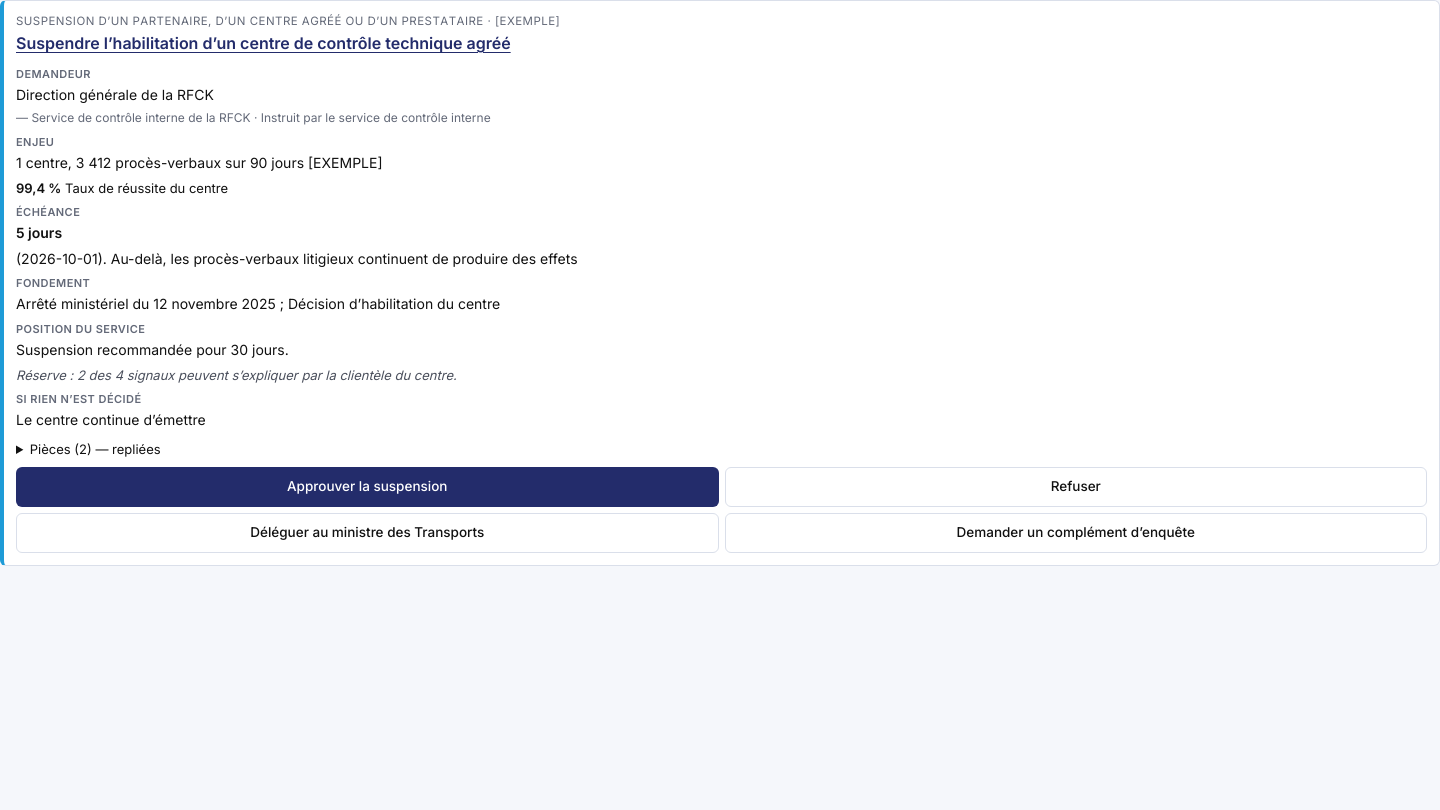
Test: Chiffre jamais nu et fiche de décision (§ 27.3, § 27.10) › fiche : neuf blocs, pièces repliées, quatre issues ; motif écrit obligatoire avant tout envoi
Expected: the text "Demandeur" is shown, x1=16 y1=67 x2=91 y2=81
Expected: the text "Enjeu" is shown, x1=16 y1=135 x2=54 y2=149
Click the button "Approuver la suspension": (367, 487) x1=16 y1=467 x2=718 y2=507
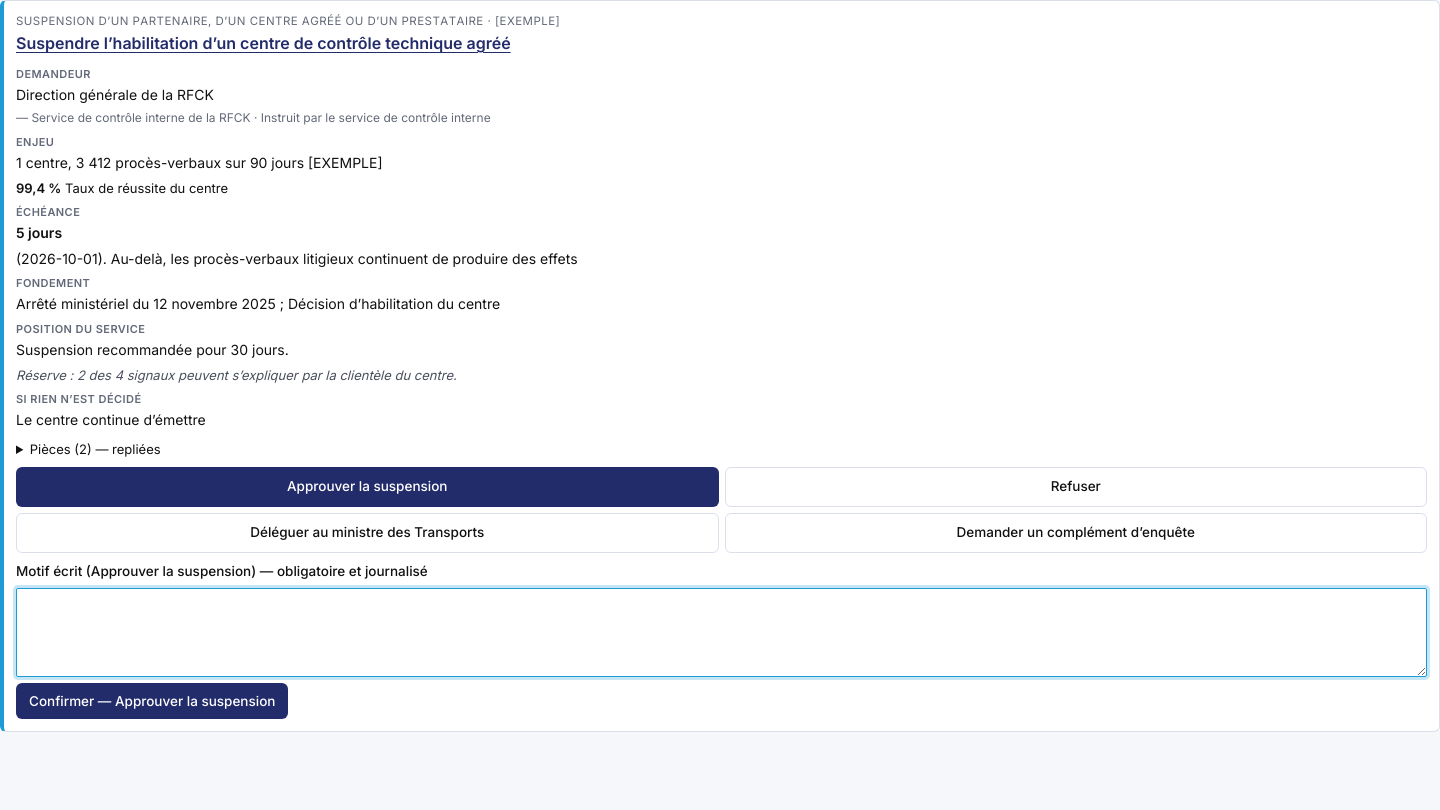
In the text box labelled "Motif écrit": (722, 632) x1=16 y1=588 x2=1427 y2=677, type "court"
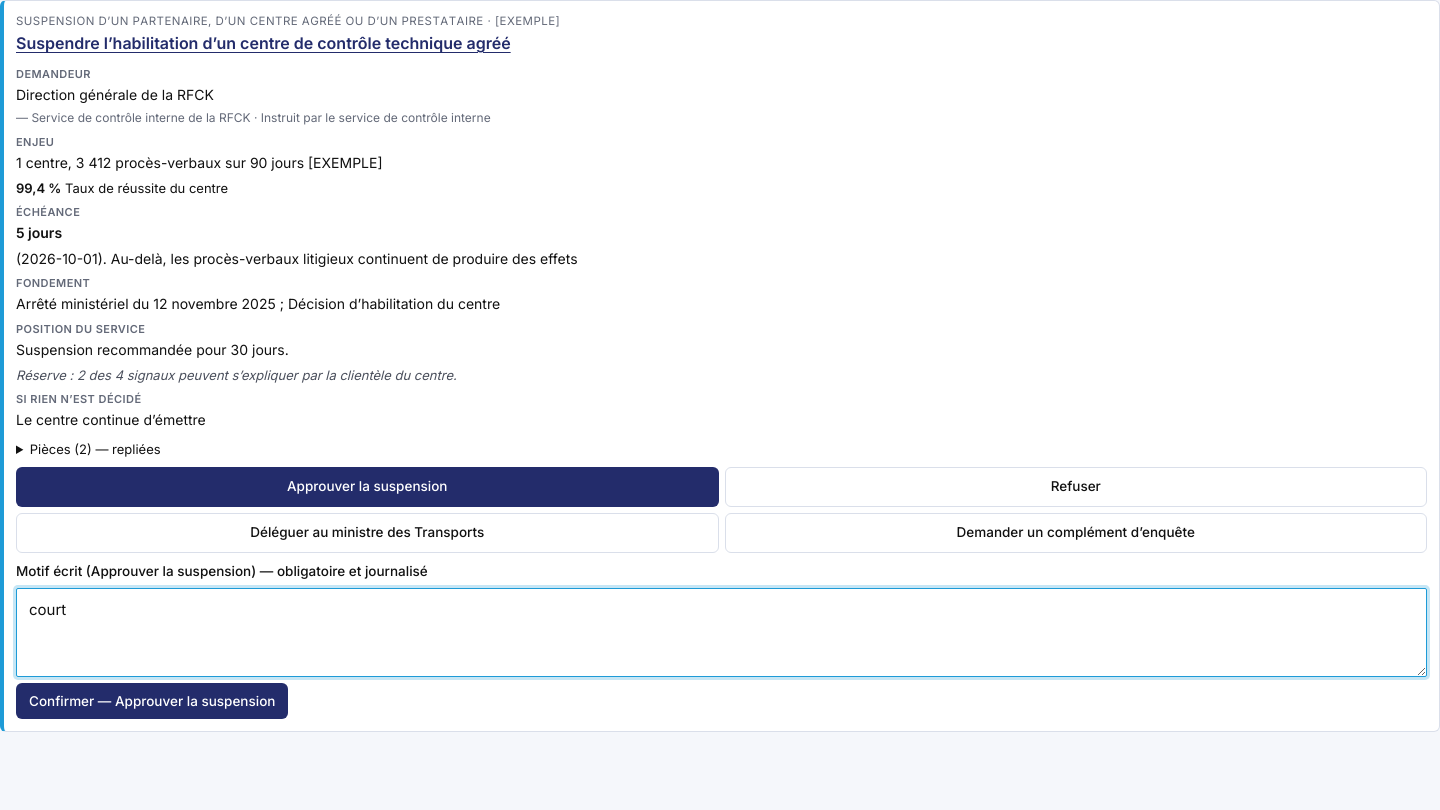
Click the button "Confirmer — Approuver la suspension": (152, 701) x1=16 y1=683 x2=288 y2=719
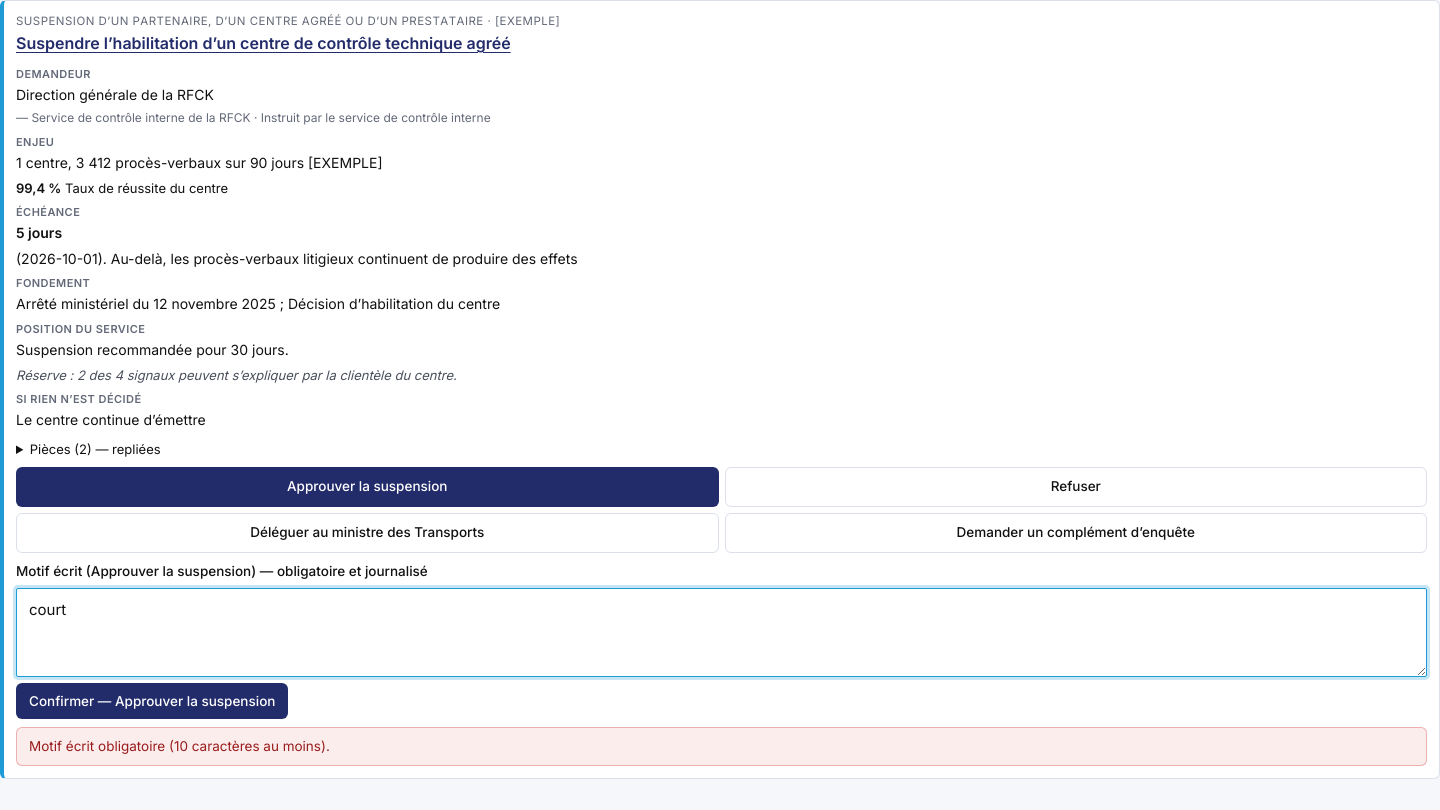
Expected: the text "Motif écrit obligatoire (10 caractères au moins)." is shown, x1=16 y1=727 x2=1427 y2=766
